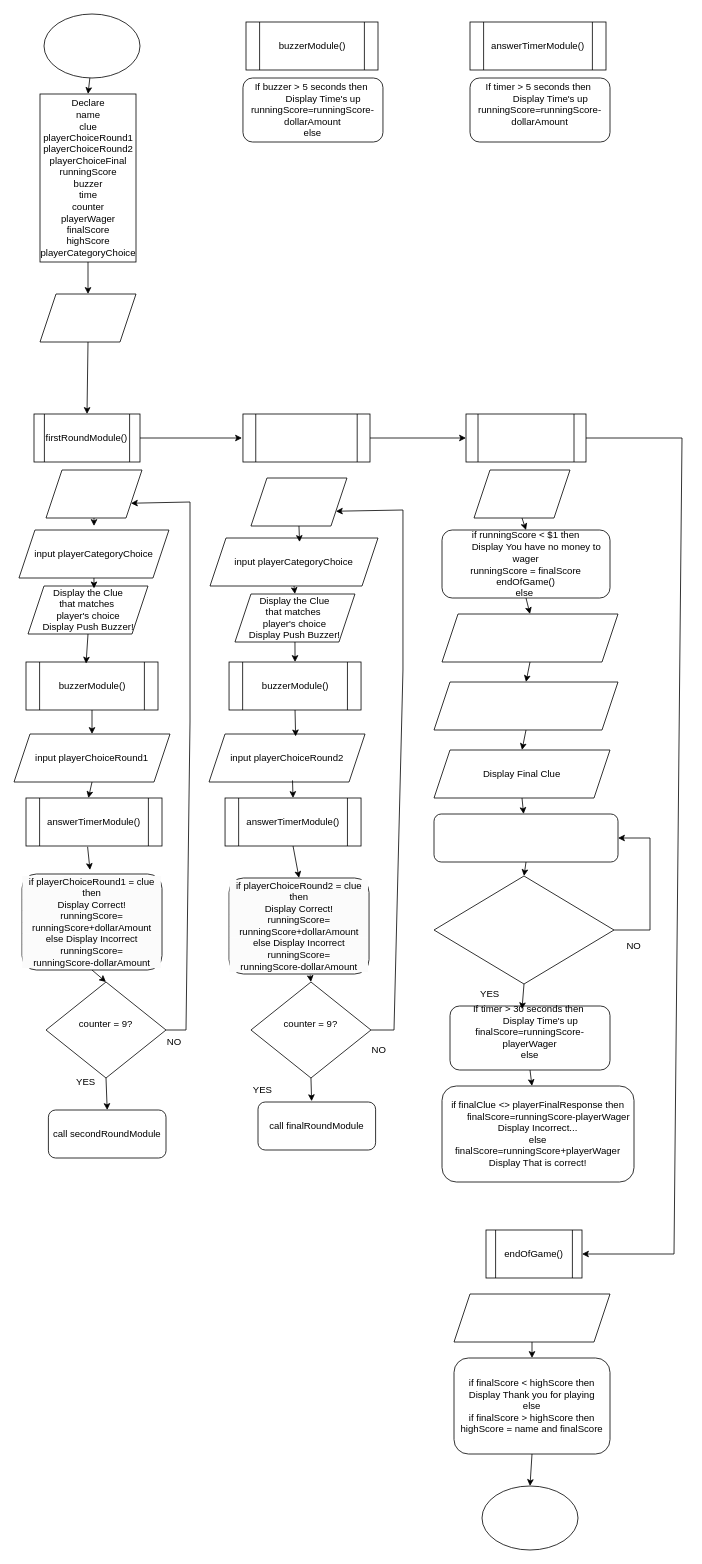
This 702x1564 diagram has some shape labels left out. Each missing label, with the centre of its shape:
Display Cateories and Dollar Amounts ($100-$500): point 93,493
Display Cateories and Dollar Amounts ($200-$1000): point 298,501
Display finalScore: point 531,1317
Display Welcome to Final Jeopardy: point 521,493
Display What do you wager?: point 529,637
finalRoundModule(): point 525,437
input Player name: point 87,317
input playerFinalResponse: point 525,837
input playerWager: point 525,705
Is timer > 30 seconds: point 523,929
secoundRoundModule(): point 306,437
start: point 91,45
stop: point 529,1517
